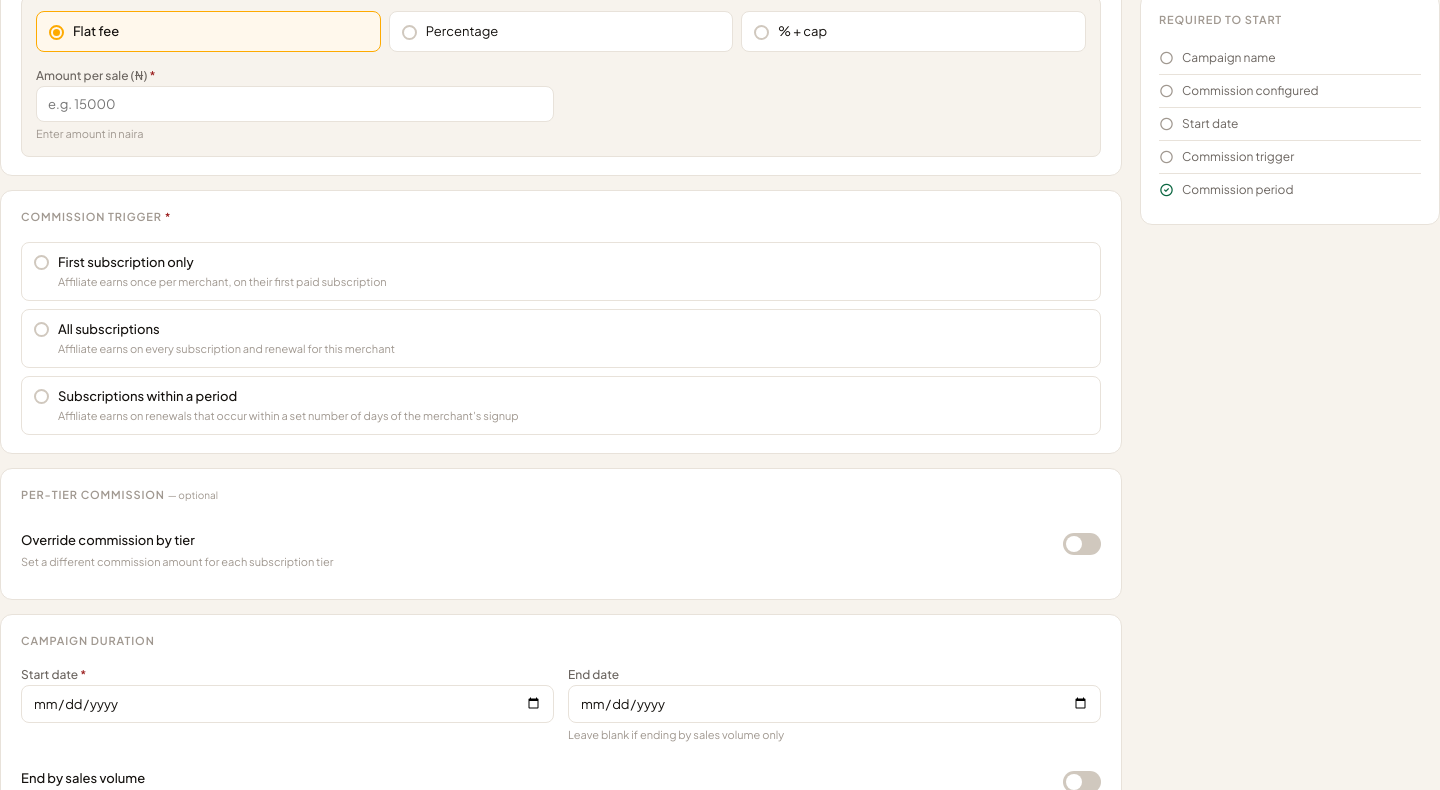
commission trigger › period field appears when subscriptions_within_period is selected
(page scrolled)
Click the element with class "radio-opt--block" that starts with "Subscriptions within a period" at (561, 405), box [21,376,1101,435]
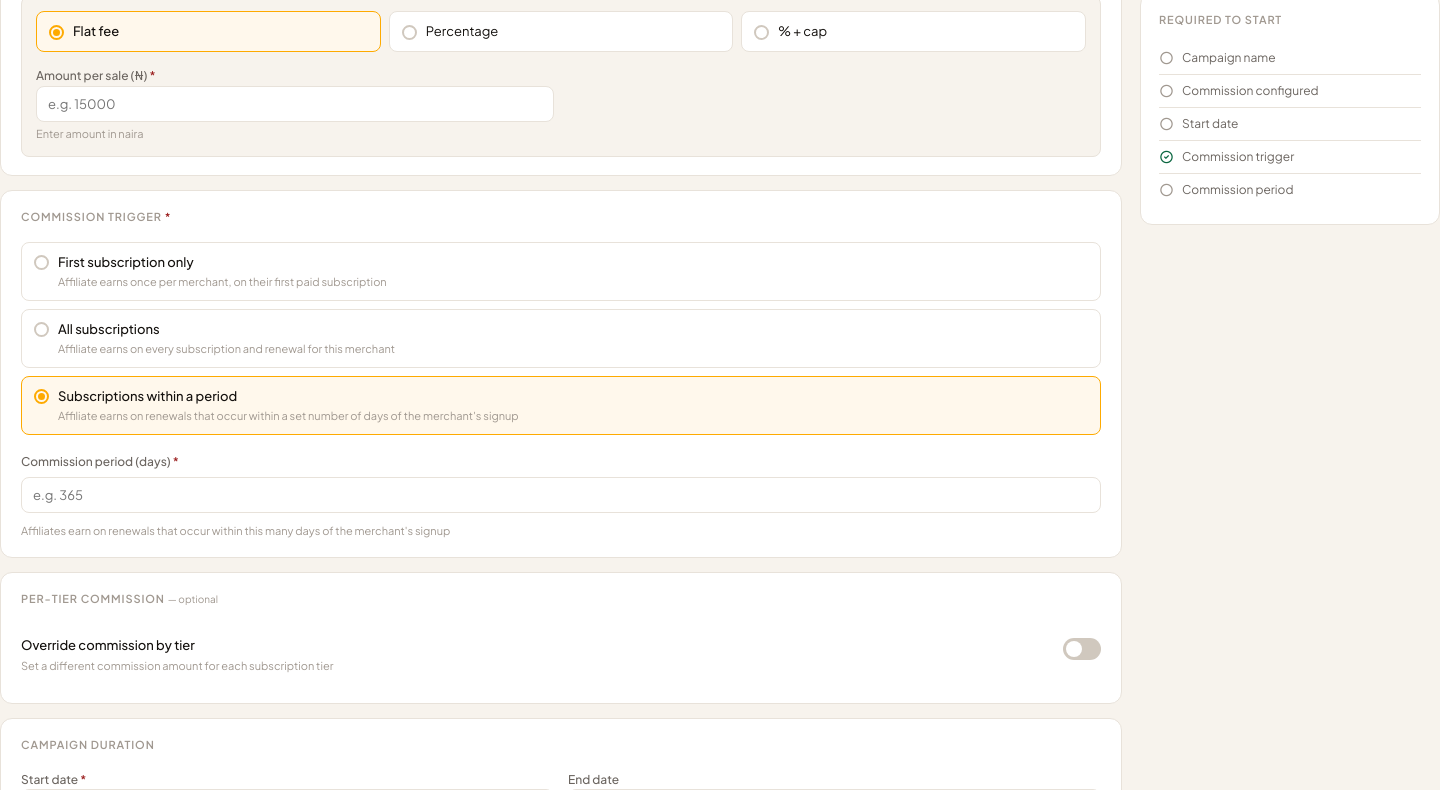
Result: the number field with placeholder "e.g. 365" is shown at [21,477,1101,513]
